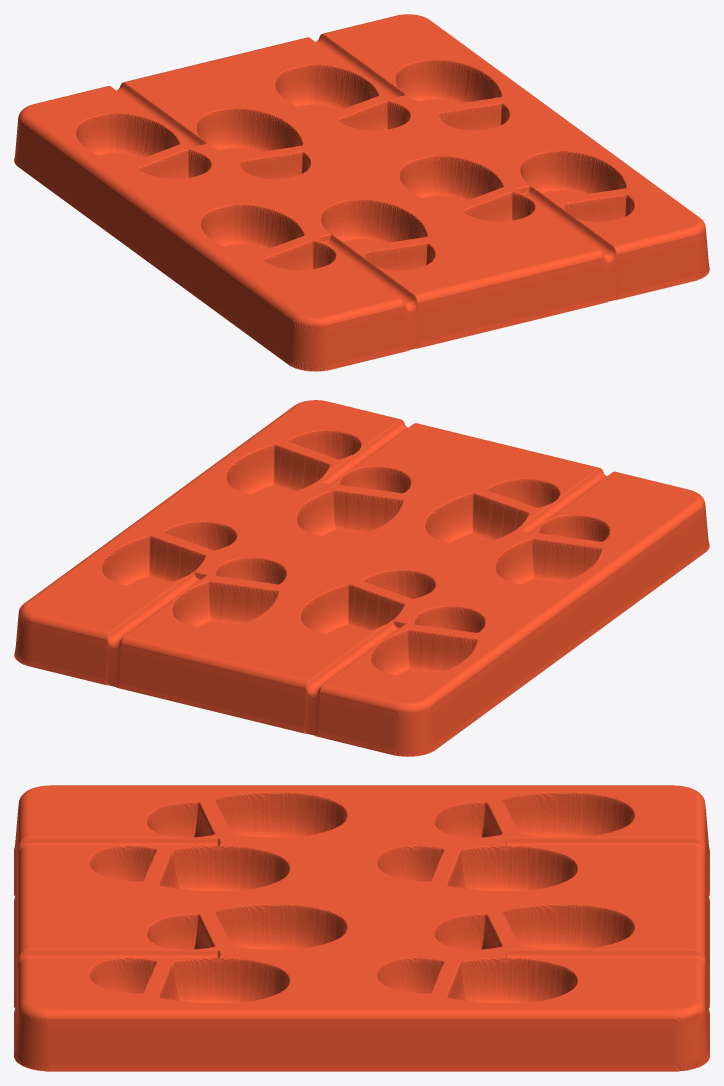
File: mold.glb
3 views of the same model, one above another, from view 1: azimuth 30°, elevation 25°; view 2: azimuth 150°, elevation 25°; view 3: azimuth 270°, elevation 25° (orthographic). The views are drawn at different scales.
Visible parts, largest first — view 1: geometry_0; view 2: geometry_0; view 3: geometry_0.
Part boxes in pixels (bbox=[...]): geometry_0: bbox=[14, 14, 709, 371]; geometry_0: bbox=[14, 400, 709, 756]; geometry_0: bbox=[14, 785, 709, 1071].
Size of the model in its own units: 0.1385 by 0.0155 by 0.1735.
